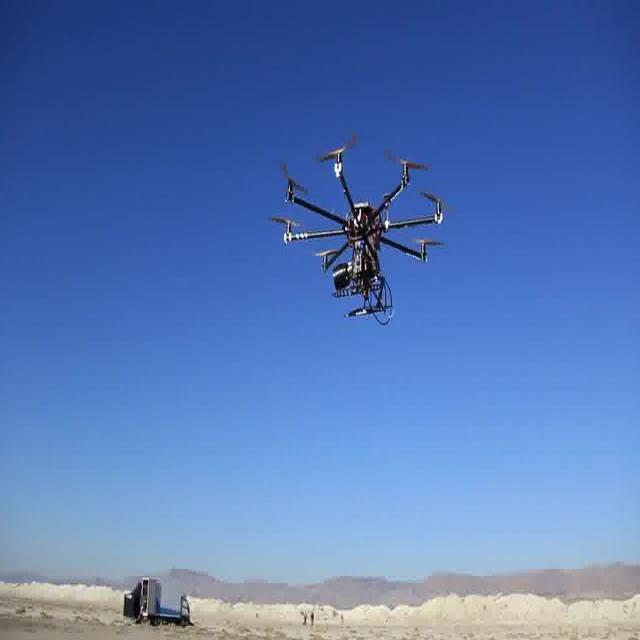drone: (264, 122, 458, 335)
